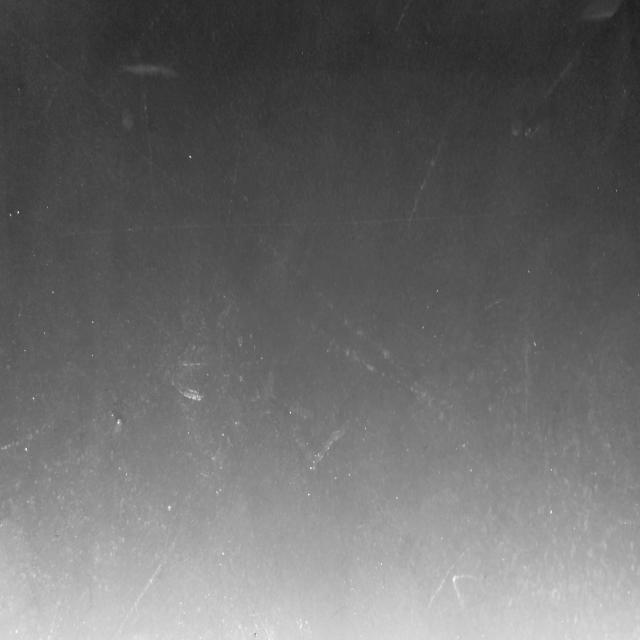beta: (250, 232, 435, 408), (101, 124, 208, 208), (212, 143, 242, 296), (532, 40, 586, 124), (0, 19, 72, 78), (112, 559, 163, 640), (407, 131, 446, 232), (135, 40, 156, 196), (424, 548, 468, 616), (0, 417, 56, 458), (132, 6, 167, 54), (453, 574, 485, 616), (394, 0, 412, 36), (44, 76, 61, 113), (46, 598, 60, 640), (481, 296, 515, 312)
